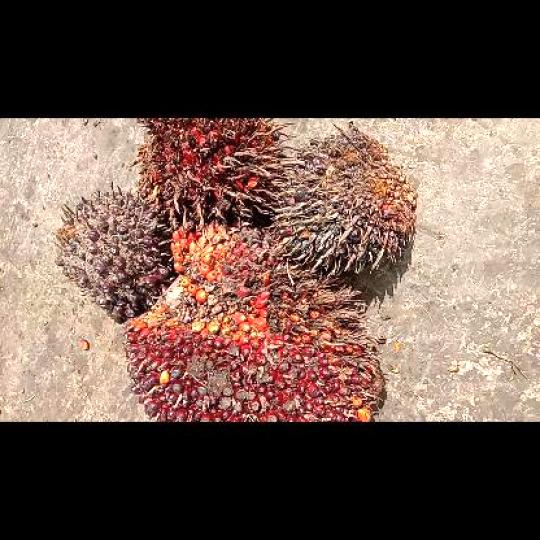kurang masak: (53, 188, 175, 323)
masak: (125, 223, 384, 421)
terlalu masak: (129, 118, 279, 222)
